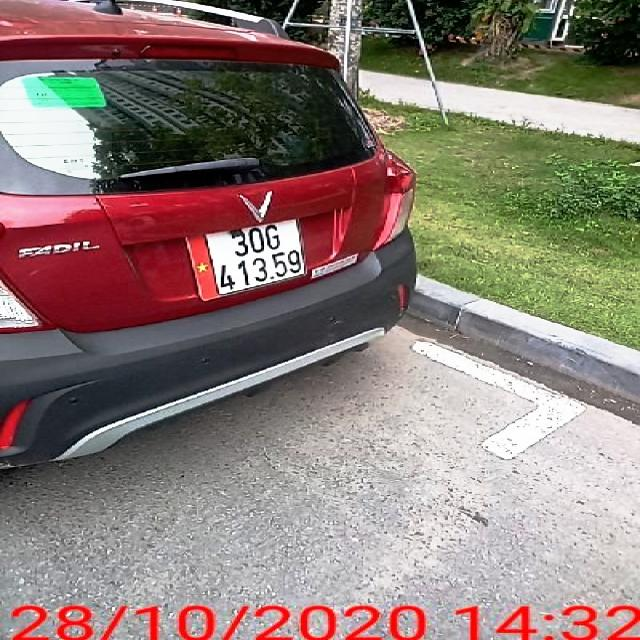license_plate: (188, 218, 308, 303)
